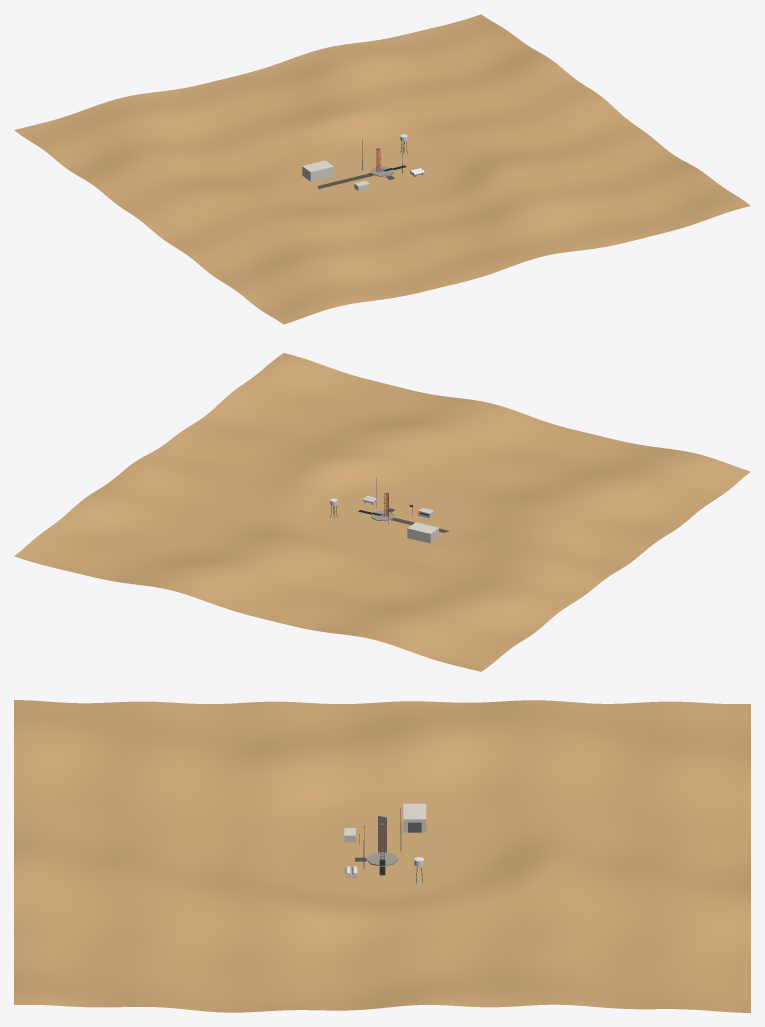
Rendered from launchpad.glb.
The picture shows the model from 3 angles, top to bottom: view 1: azimuth 30°, elevation 25°; view 2: azimuth 150°, elevation 25°; view 3: azimuth 270°, elevation 25°; orthographic projection. The views are drawn at different scales.
Visible parts, largest first — view 1: Ground, Buildings; view 2: Ground, Buildings; view 3: Ground, Buildings, Pad.
Boxes of the visible parts, <box> form: Ground: <box>14,14,750,324</box>; Buildings: <box>302,134,424,191</box>; Ground: <box>14,353,750,671</box>; Buildings: <box>330,496,438,543</box>; Ground: <box>14,700,750,1012</box>; Buildings: <box>344,803,426,884</box>; Pad: <box>355,816,398,875</box>.
Bounding box in the file's own units: 320 × 20.34 × 320.
